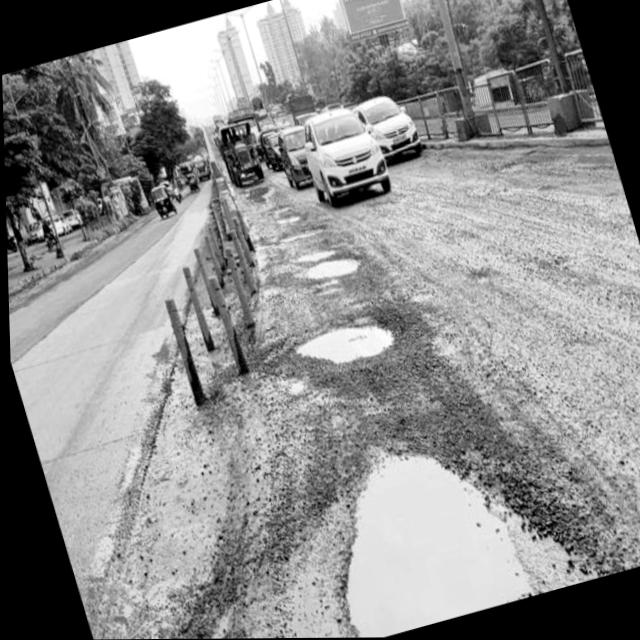pathole: (342, 456, 526, 638), (353, 462, 449, 633), (294, 325, 391, 364), (298, 252, 356, 281), (278, 215, 296, 225), (249, 190, 259, 200), (285, 237, 299, 242)
